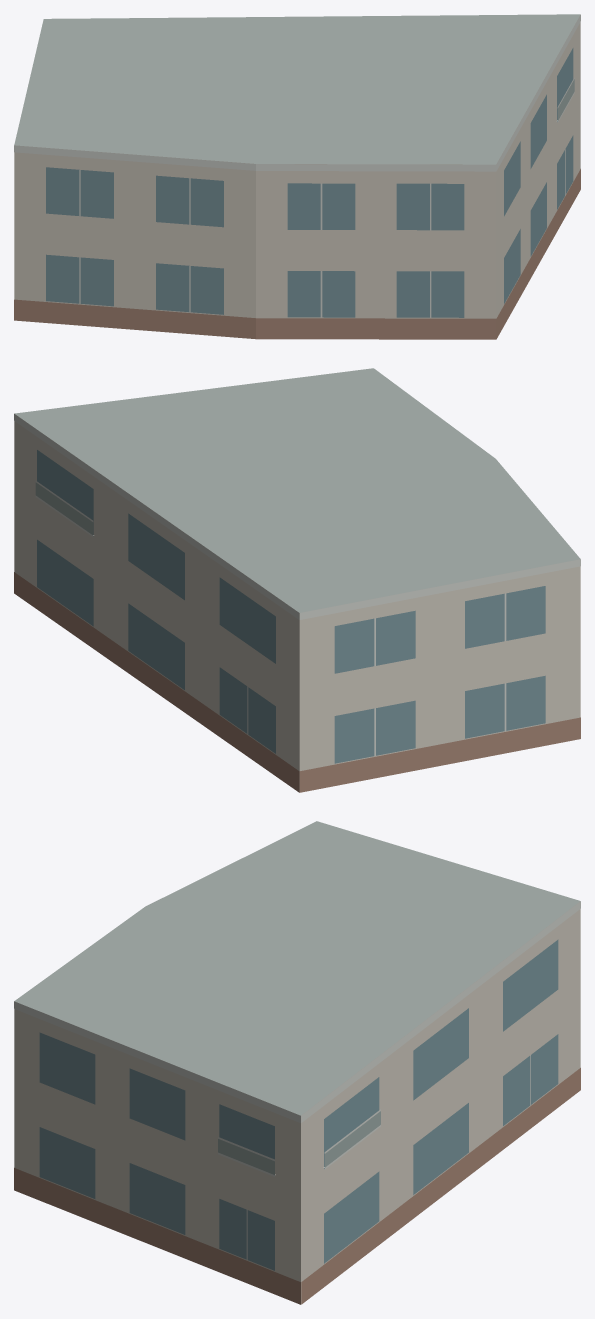
File: survey-upis-32493985.glb
The picture shows the model from 3 angles, top to bottom: view 1: azimuth 30°, elevation 25°; view 2: azimuth 150°, elevation 25°; view 3: azimuth 270°, elevation 25°; orthographic projection. The views are drawn at different scales.
Visible parts, largest first — view 1: survey-upis-32493985.tmp; view 2: survey-upis-32493985.tmp; view 3: survey-upis-32493985.tmp.
Part boxes in pixels (bbox=[...]): survey-upis-32493985.tmp: bbox=[14, 14, 580, 339]; survey-upis-32493985.tmp: bbox=[14, 368, 580, 792]; survey-upis-32493985.tmp: bbox=[14, 821, 580, 1304].
Size of the model in its own units: 20.4 by 6.1 by 16.58.
